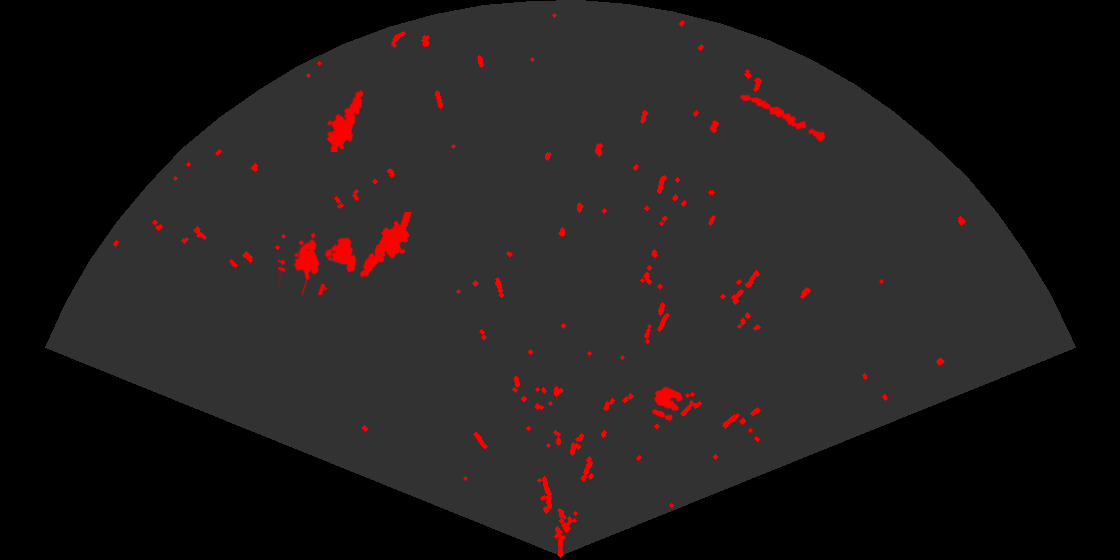ball: (651, 385, 685, 422)
cage: (278, 231, 358, 295)
chain: (738, 93, 827, 144)
frogman: (358, 212, 413, 279), (325, 88, 365, 152)
